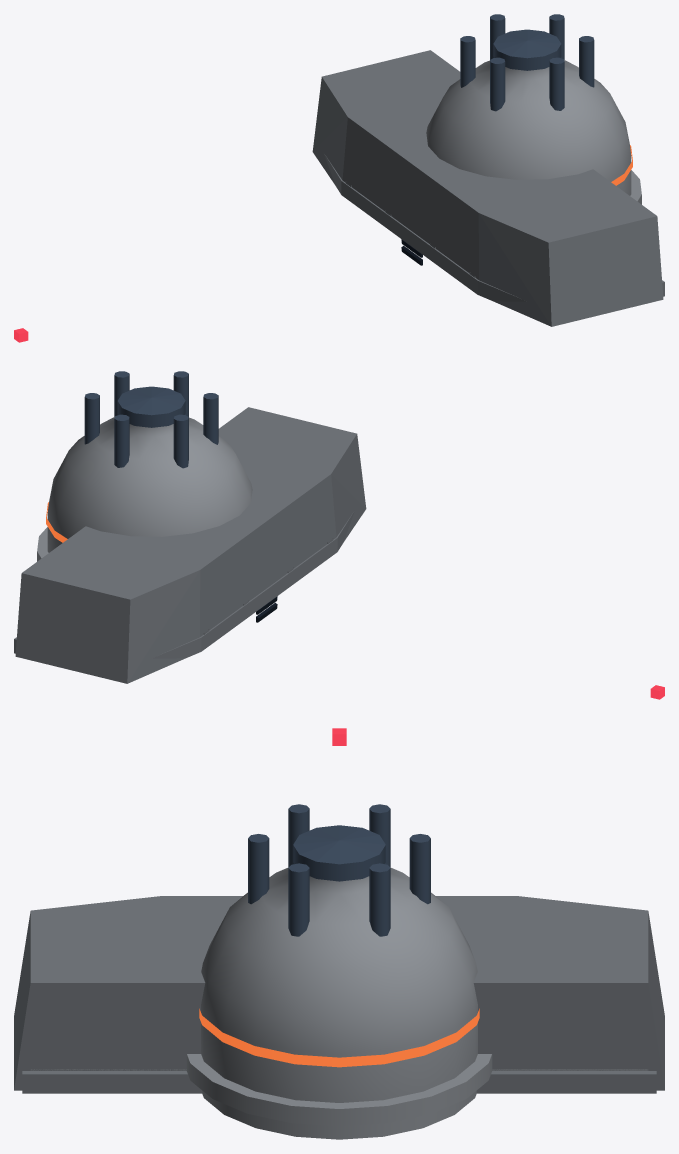
The model's file is RS_ReactorCore.glb.
3 renders of one model, top to bottom at view 1: azimuth 30°, elevation 25°; view 2: azimuth 150°, elevation 25°; view 3: azimuth 270°, elevation 25°, orthographic. The views are drawn at different scales.
Visible parts, largest first — view 1: RS_ReactorCore__podium, RS_ReactorCore__dome, RS_ReactorCore__stacks, RS_ReactorCore__crown; view 2: RS_ReactorCore__podium, RS_ReactorCore__dome, RS_ReactorCore__stacks, RS_ReactorCore__crown; view 3: RS_ReactorCore__podium, RS_ReactorCore__dome, RS_ReactorCore__stacks, RS_ReactorCore__crown, RS_ReactorCore__drum, RS_ReactorCore__dome_band, RS_ReactorCore__body.
Boxes of the visible parts, x1,y1,x2,y2 form: RS_ReactorCore__podium: (312, 50, 663, 326); RS_ReactorCore__dome: (426, 60, 641, 204); RS_ReactorCore__stacks: (460, 14, 594, 111); RS_ReactorCore__crown: (324, 153, 664, 301); RS_ReactorCore__podium: (15, 407, 366, 683); RS_ReactorCore__dome: (37, 417, 252, 561); RS_ReactorCore__stacks: (84, 371, 218, 468); RS_ReactorCore__crown: (14, 510, 354, 658); RS_ReactorCore__podium: (14, 896, 664, 1090); RS_ReactorCore__dome: (186, 867, 492, 1126); RS_ReactorCore__stacks: (248, 804, 430, 936); RS_ReactorCore__crown: (22, 1071, 656, 1093); RS_ReactorCore__drum: (202, 1091, 476, 1139); RS_ReactorCore__dome_band: (199, 1008, 479, 1067); RS_ReactorCore__body: (30, 1069, 648, 1070).
Bounding box in the file's own units: 40.4 × 12.1 × 27.4.
